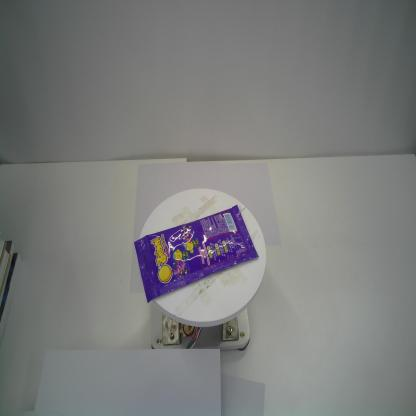Candy: (134, 202, 260, 306)
